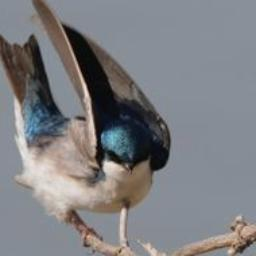Swallow: (0, 0, 172, 255)
